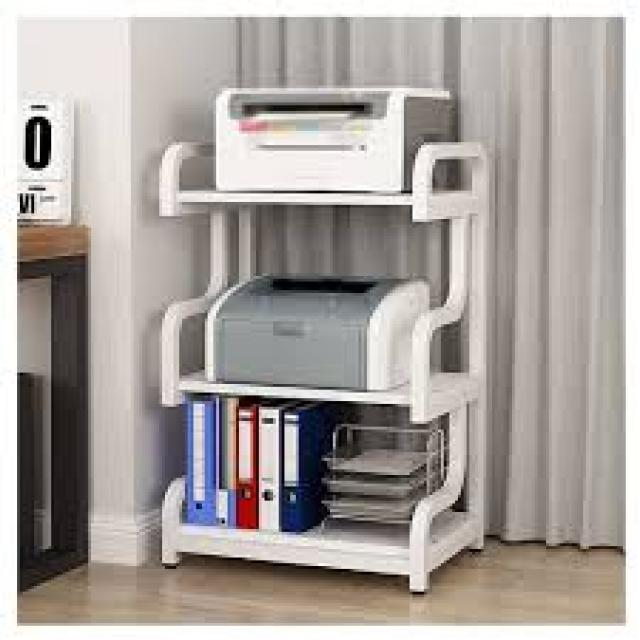printer: (202, 270, 429, 390), (213, 85, 455, 194)
